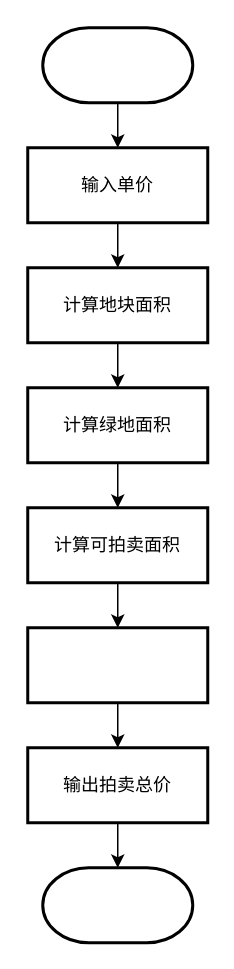
The diagram is 234 pixels wide and 969 high, and some of its shapes have lost their labels. The shapes that lost their labels are listed below. From the top down, each one's centre as x and y in pixels, then its label:
(x=117, y=65): 开始
(x=117, y=665): 计算可拍卖总价
(x=117, y=905): 结束
